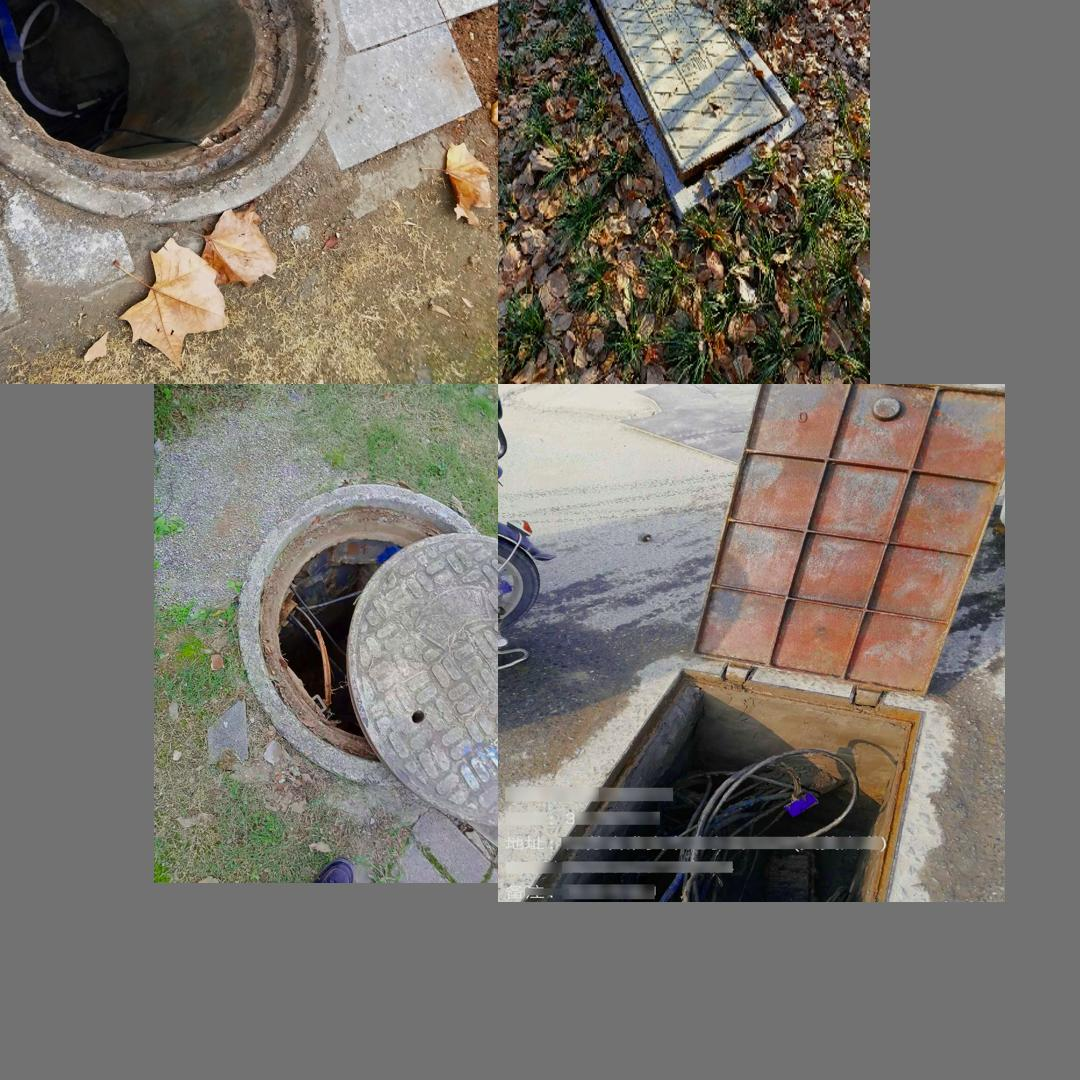uncovered: (504, 386, 1005, 894), (235, 482, 498, 826), (0, 0, 356, 219), (579, 0, 800, 182)
